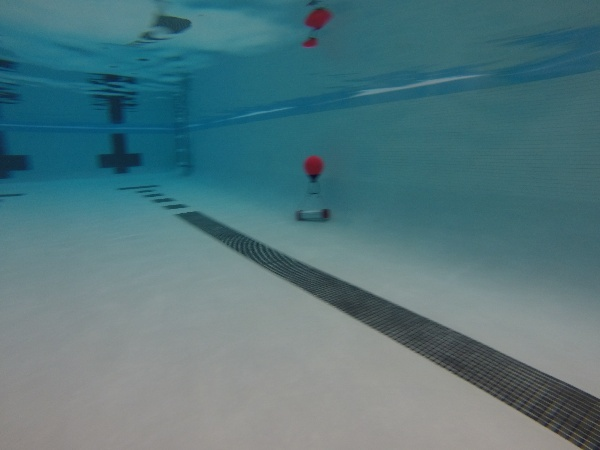buoy_red: (301, 153, 326, 184)
